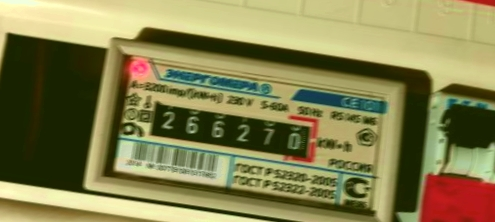0: (284, 130, 301, 152)
2: (159, 109, 175, 131), (235, 122, 251, 144)
6: (209, 118, 225, 139), (184, 114, 199, 136)
7: (261, 126, 274, 146)
screen: (136, 89, 325, 171)
